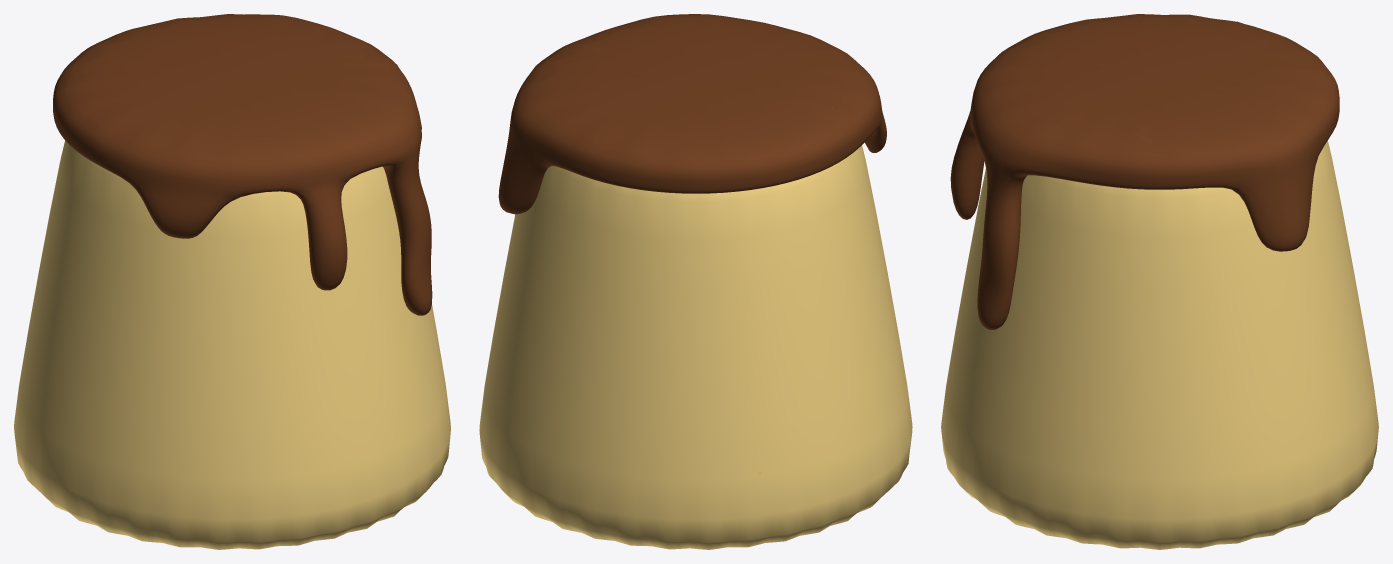
File: PuddingTree.fbx
3 views of the same model, side by side, from view 1: azimuth 30°, elevation 25°; view 2: azimuth 150°, elevation 25°; view 3: azimuth 270°, elevation 25° (orthographic).
Parts seen in each view (by area): view 1: Cylinder, Cylinder.001; view 2: Cylinder, Cylinder.001; view 3: Cylinder, Cylinder.001.
Part boxes in pixels (bbox=[...]): Cylinder: bbox=[14, 140, 450, 549]; Cylinder.001: bbox=[53, 14, 432, 315]; Cylinder: bbox=[479, 145, 912, 549]; Cylinder.001: bbox=[498, 14, 886, 214]; Cylinder: bbox=[941, 141, 1378, 549]; Cylinder.001: bbox=[950, 14, 1339, 329].
Bounding box in the file's own units: 194 × 200 × 194.
Materials: 1 (1 with a texture image).
